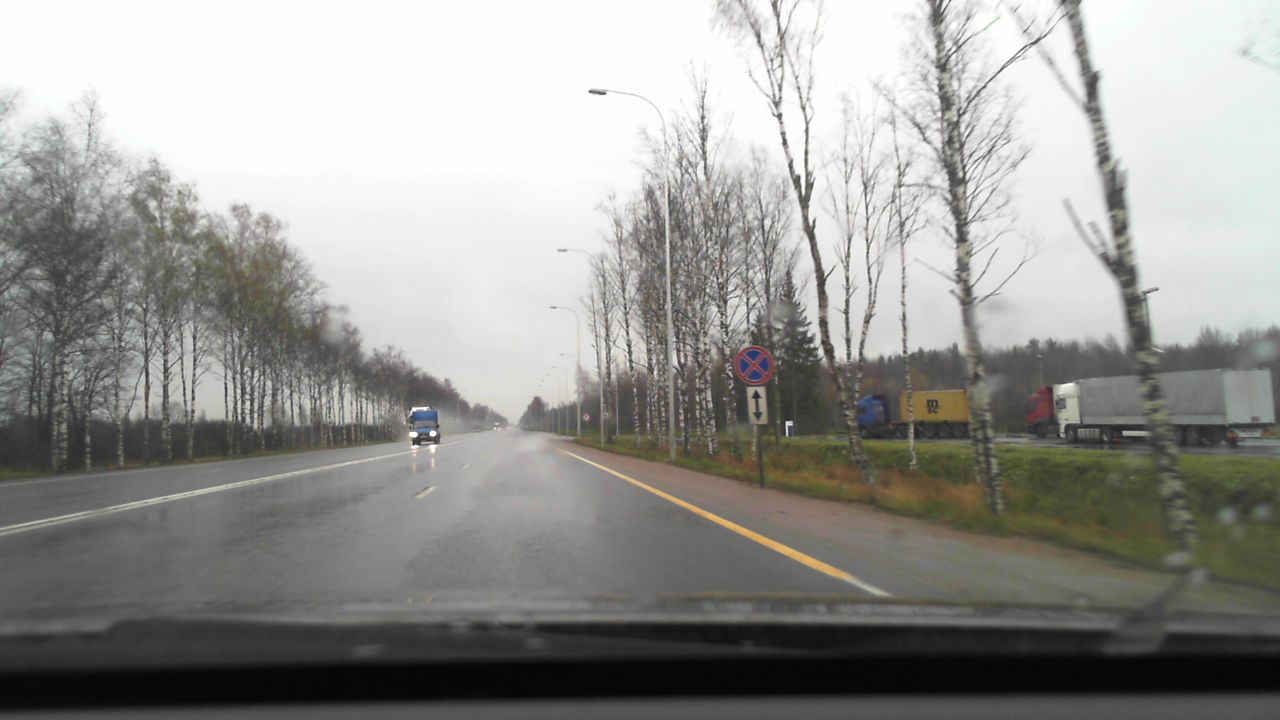No Parking: (734, 345, 774, 384)
